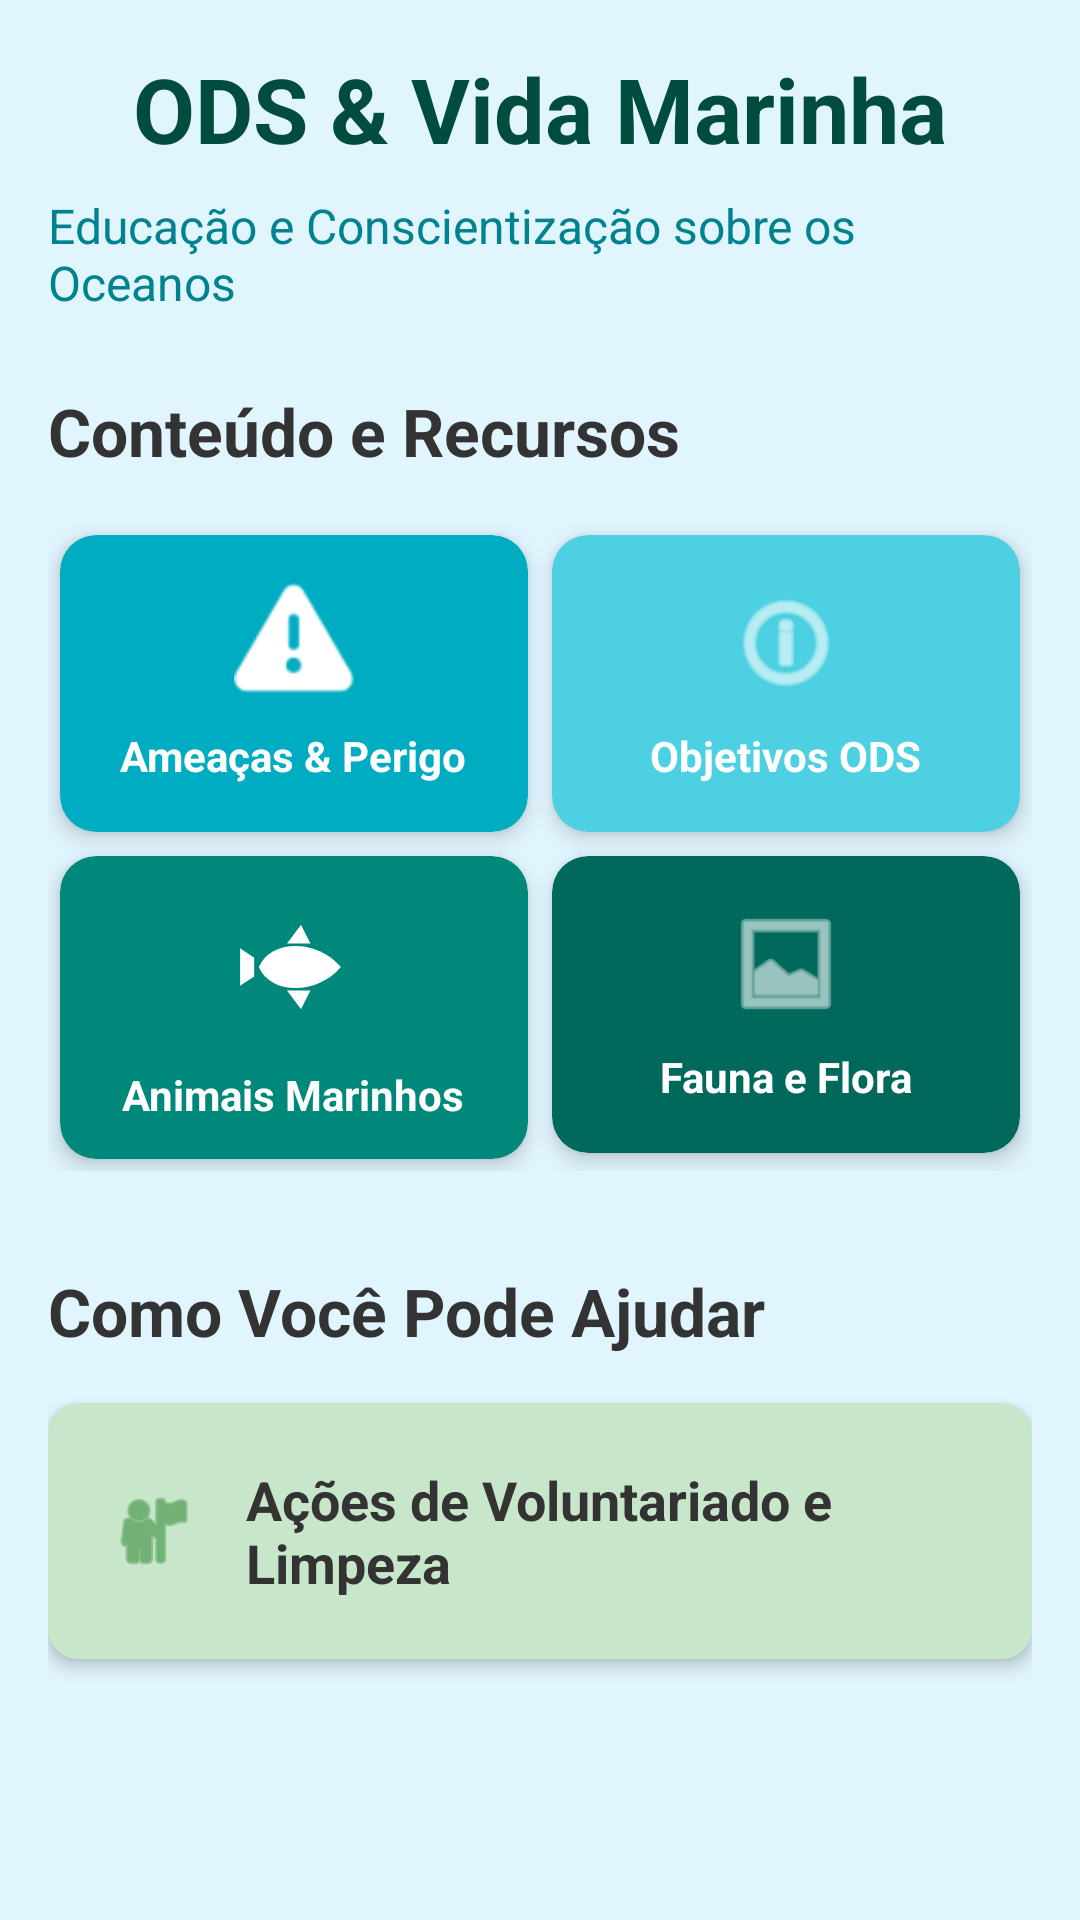

Screen size 1080x1920. Icon name, then its box in pixels as {"left": x1, "top": y1, "right": x2, "bottom": y2}:
Ícone de Alerta de Perigo Ambiental: {"left": 234, "top": 583, "right": 354, "bottom": 693}
Ícone de Informação sobre ODS: {"left": 743, "top": 600, "right": 829, "bottom": 686}
Ícone de Voluntariado e Ações: {"left": 120, "top": 1498, "right": 188, "bottom": 1564}
